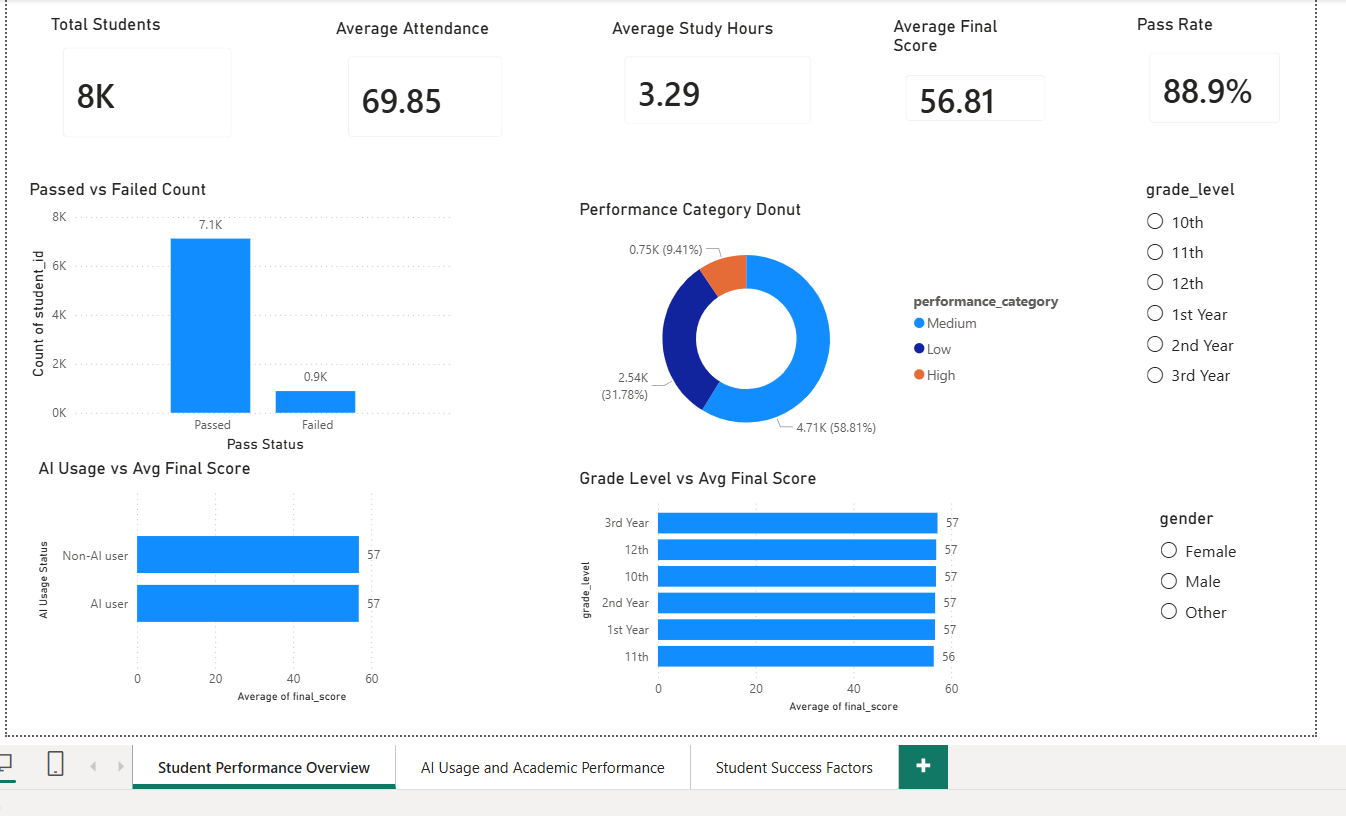

This screenshot's page, from the dashboard's own definition file:
{"tool":"powerbi","page":{"name":"Student Performance Overview","canvas":[1280,720],"ordinal":0},"visuals":[{"type":"cardVisual","title":"Total Students","fields":{"Data":["CountNonNull(ai_impact_student_performance_dataset.student_id)"]},"box":[37.9,14.7,199.3,138.2],"z":0},{"type":"cardVisual","title":"Average Final Score","fields":{"Data":["Avg(ai_impact_student_performance_dataset.final_score)"]},"box":[862.1,15.9,171.2,121.1],"z":1000},{"type":"cardVisual","title":"Average Attendance","fields":{"Data":["Avg(ai_impact_student_performance_dataset.attendance_percentage)"]},"box":[316.7,18.3,185.9,134.5],"z":2000},{"type":"cardVisual","title":"Average Study Hours","fields":{"Data":["Avg(ai_impact_student_performance_dataset.study_hours_per_day)"]},"box":[587,18.3,217.7,121.1],"z":3000},{"type":"cardVisual","title":"Pass Rate","fields":{"Data":["Avg(ai_impact_student_performance_dataset.passed)"]},"box":[1100.5,14.7,162.6,124.7],"z":4000},{"type":"donutChart","title":"Performance Category Donut","fields":{"Category":["ai_impact_student_performance_dataset.performance_category"],"Y":["CountNonNull(ai_impact_student_performance_dataset.student_id)"]},"box":[555.2,195.7,490.4,253.1],"z":5000},{"type":"barChart","title":"Grade Level vs Avg Final Score","fields":{"Category":["ai_impact_student_performance_dataset.grade_level"],"Y":["Avg(ai_impact_student_performance_dataset.final_score)"]},"box":[555.2,458.6,457.3,244.6],"z":6000},{"type":"barChart","title":"AI Usage vs Avg Final Score","fields":{"Category":["ai_impact_student_performance_dataset.AI Usage Status"],"Y":["Avg(ai_impact_student_performance_dataset.final_score)"]},"box":[25.7,448.8,417,244.6],"z":7000},{"type":"columnChart","title":"Passed vs Failed Count","fields":{"Category":["ai_impact_student_performance_dataset.Pass Status"],"Y":["CountNonNull(ai_impact_student_performance_dataset.student_id)"]},"box":[17.1,176.1,425.5,272.7],"z":8000},{"type":"listSlicer","fields":{"Values":["ai_impact_student_performance_dataset.gender"]},"box":[1122.6,497.7,91.7,187.1],"z":8001},{"type":"listSlicer","fields":{"Values":["ai_impact_student_performance_dataset.grade_level"]},"box":[1109.1,176.1,116.2,222.6],"z":8002}]}

Visuals, with their boxes on the page's 1280x720 design canvas (x1, y1, x2, y2). These are canvas units, not pixel positions in the 1346x816 screenshot, which may show the page scaled, cropped or inside an application window:
"Total Students" cardVisual: crop(38, 15, 237, 153)
"Average Final Score" cardVisual: crop(862, 16, 1033, 137)
"Average Attendance" cardVisual: crop(317, 18, 503, 153)
"Average Study Hours" cardVisual: crop(587, 18, 805, 139)
"Pass Rate" cardVisual: crop(1100, 15, 1263, 139)
"Performance Category Donut" donutChart: crop(555, 196, 1046, 449)
"Grade Level vs Avg Final Score" barChart: crop(555, 459, 1012, 703)
"AI Usage vs Avg Final Score" barChart: crop(26, 449, 443, 693)
"Passed vs Failed Count" columnChart: crop(17, 176, 443, 449)
listSlicer - ai_impact_student_performance_dataset.gender: crop(1123, 498, 1214, 685)
listSlicer - ai_impact_student_performance_dataset.grade_level: crop(1109, 176, 1225, 399)
